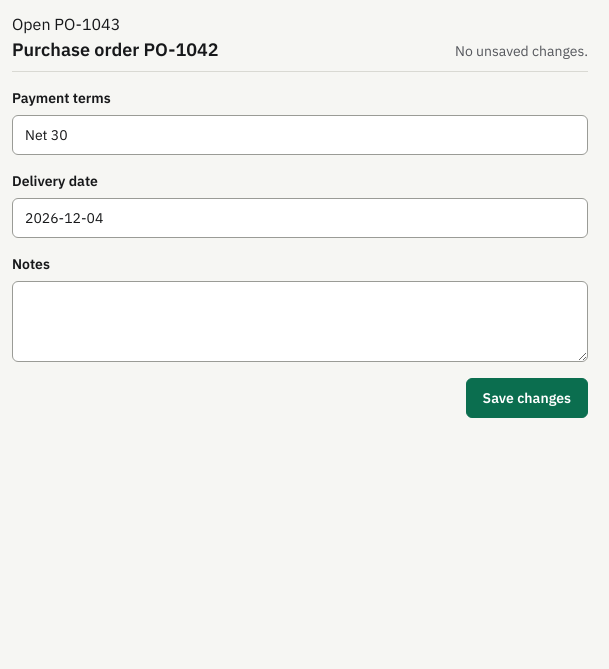
Test: EditConflictForm › has no axe violations while dirty and in conflict
Replace the text in the field labelled "Payment terms" with "Net 45". click: x=300, y=135
box: [12,115,588,155]
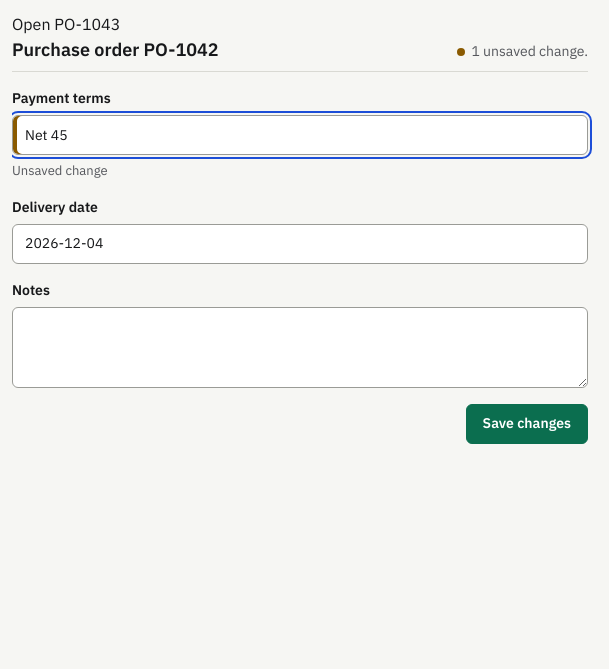
Click the button "Save changes". click: x=527, y=424
box: [466,404,588,444]
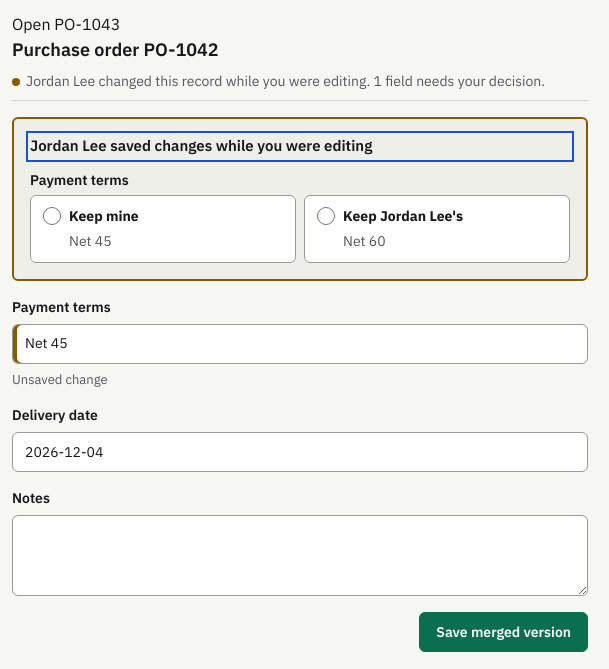
Expected: the element "Payment terms" is shown, [30,170,570,262]
